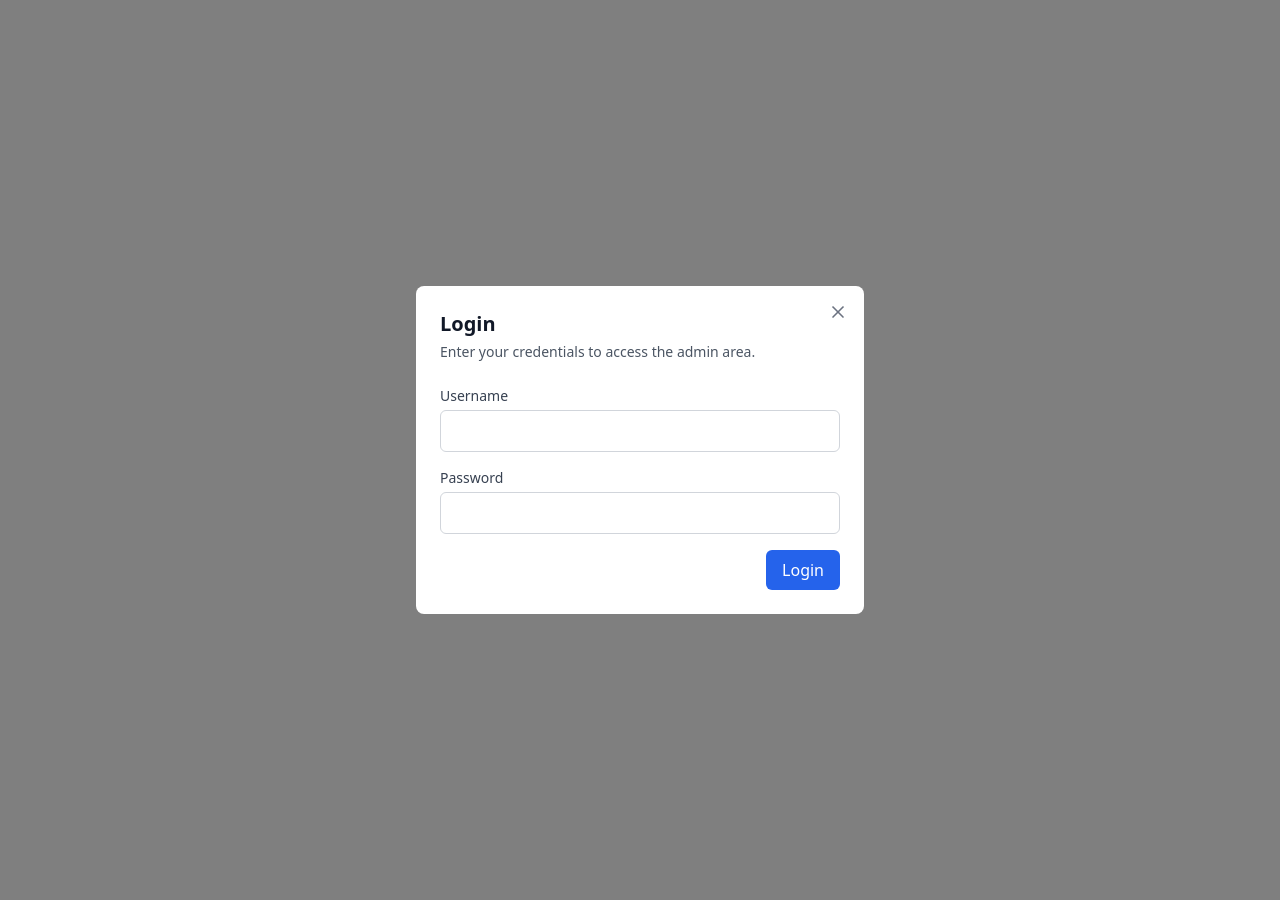
LoginModal Component › when isOpen is true › during a login attempt › disables the submit button and shows loading state
Type "testUser" into the field with test id "login-modal-username" at (640,431), box [440, 410, 840, 452]
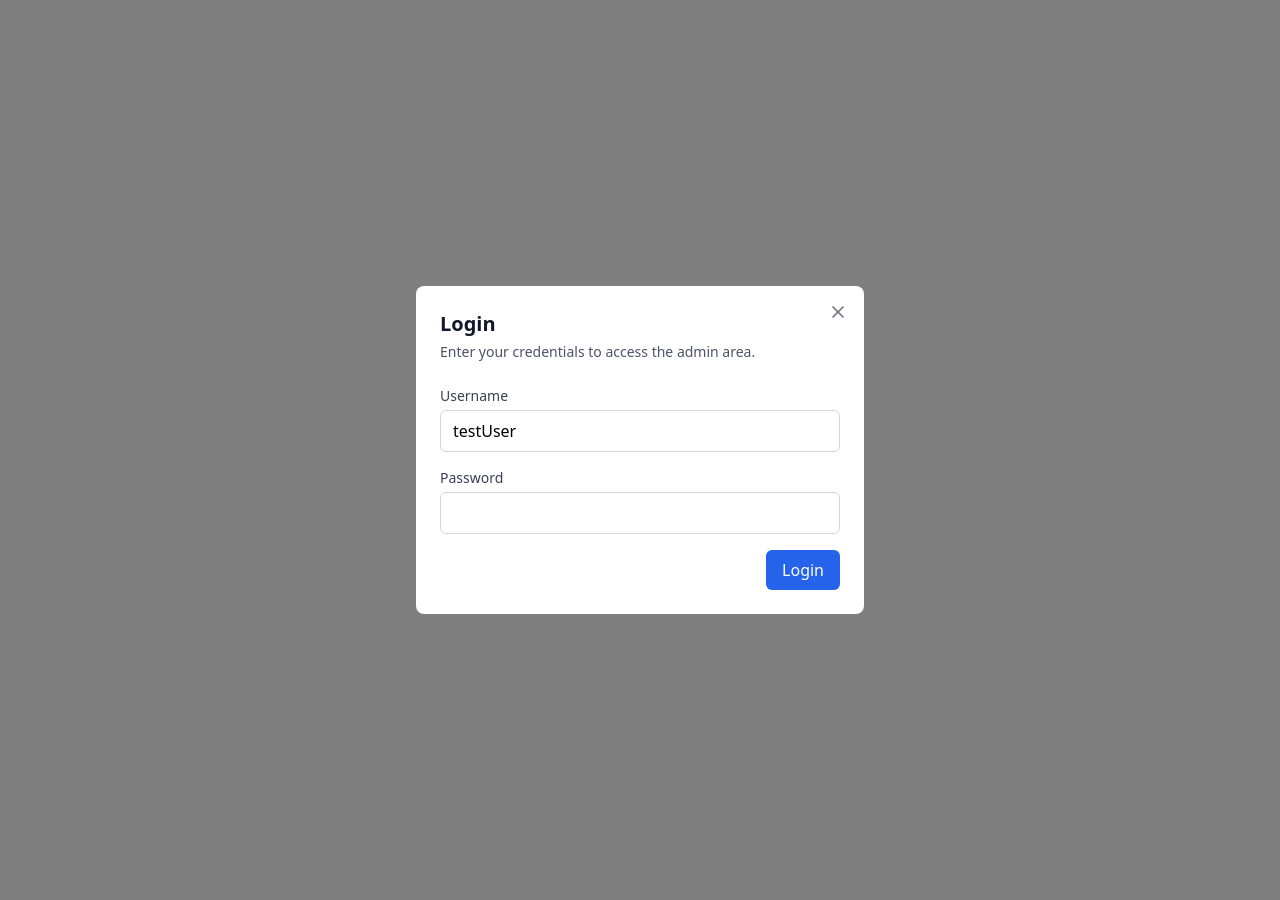
Type "testPass" into the password field with test id "login-modal-password" at (640,513), box [440, 492, 840, 534]
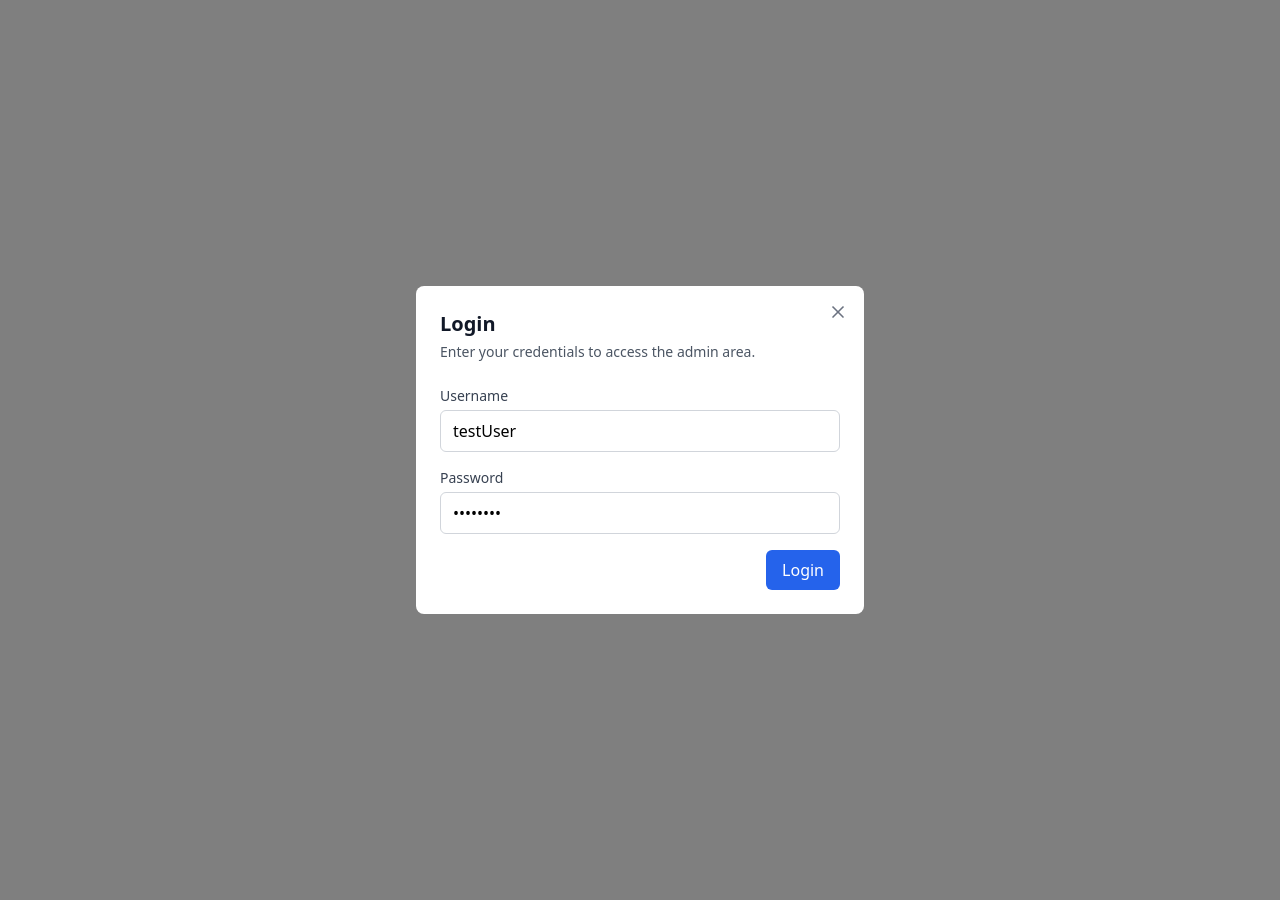
Click the button with test id "login-modal-submit-button" at (803,570), box [766, 550, 840, 590]
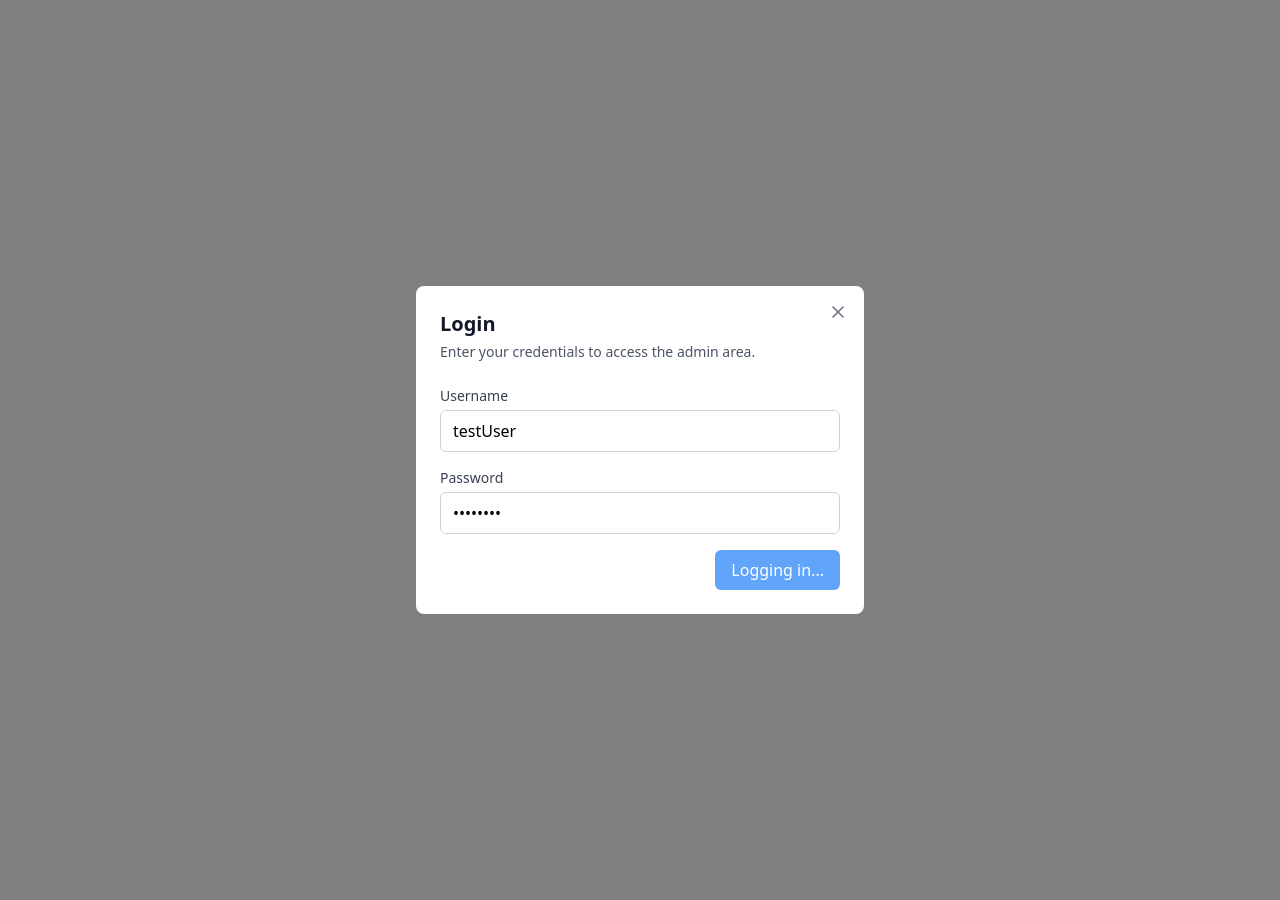
Result: the button with test id "login-modal-submit-button" is disabled at [715, 550, 840, 590]
Result: the button with test id "login-modal-submit-button" reads "Logging in..." at [715, 550, 840, 590]
